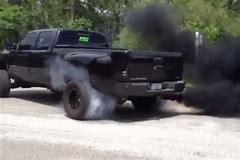smoke: (126, 2, 240, 117)
